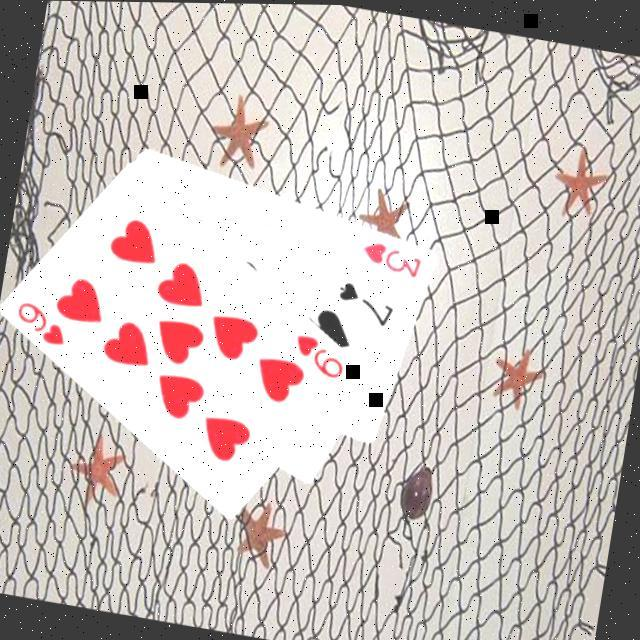3H: (356, 232, 426, 279)
7S: (330, 273, 400, 327)
9H: (286, 326, 350, 381), (8, 294, 72, 348)
